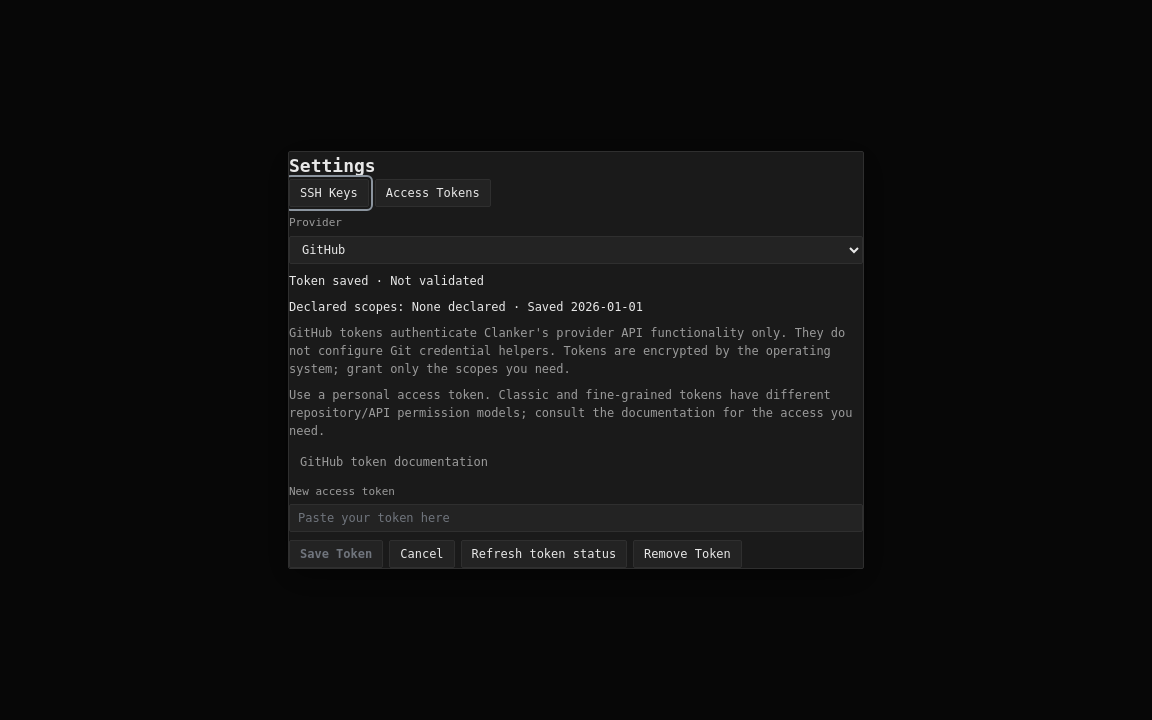
Test: canonical Authentication content › retains known credential status and reports token deletion failures
Click the button "Remove Token" at (687, 554), box [633,540,742,568]
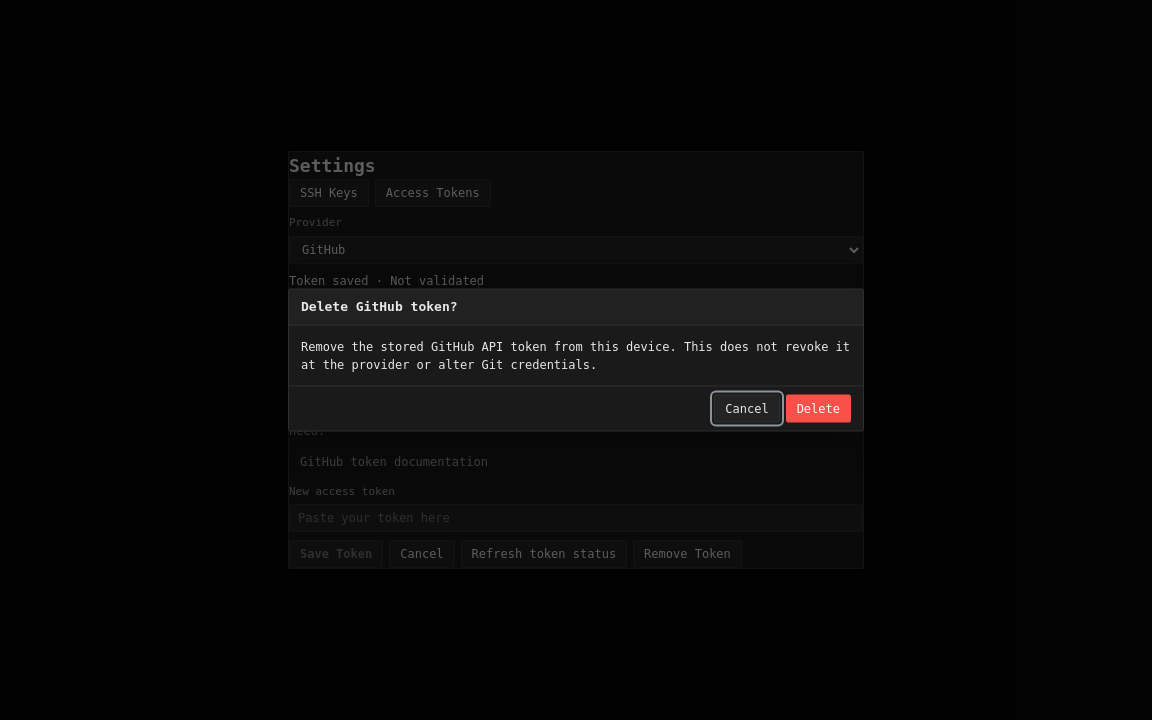
Click the button "Delete" at (818, 408), box [786,394,851,422]
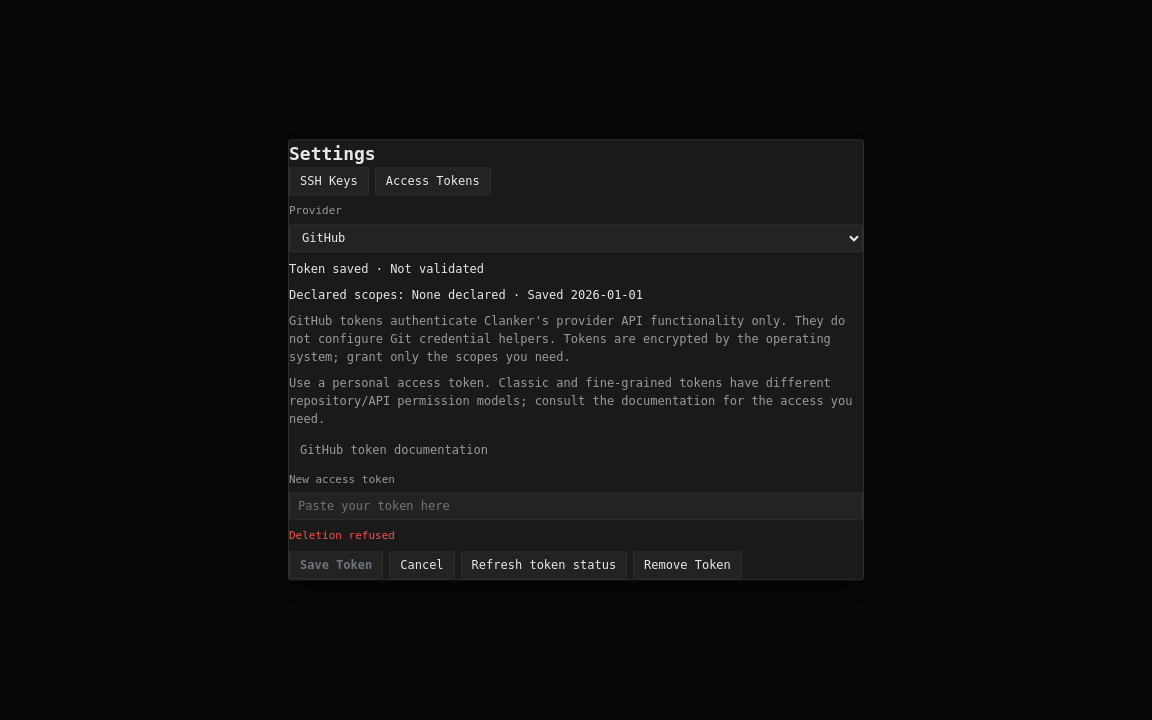
Expected: the text "Token saved · Not validated" is shown, [289,262,484,276]
Result: the message "Deletion refused" is shown at [289,529,395,542]
